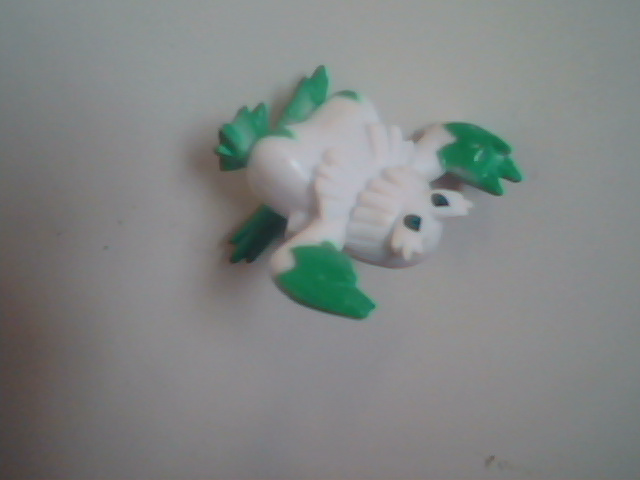abomasnow: (183, 27, 552, 365)
